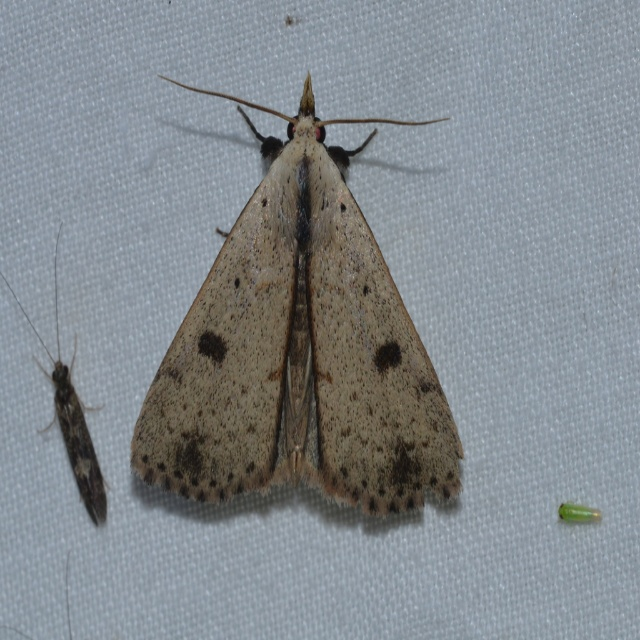Butterfly: (125, 40, 464, 541)
